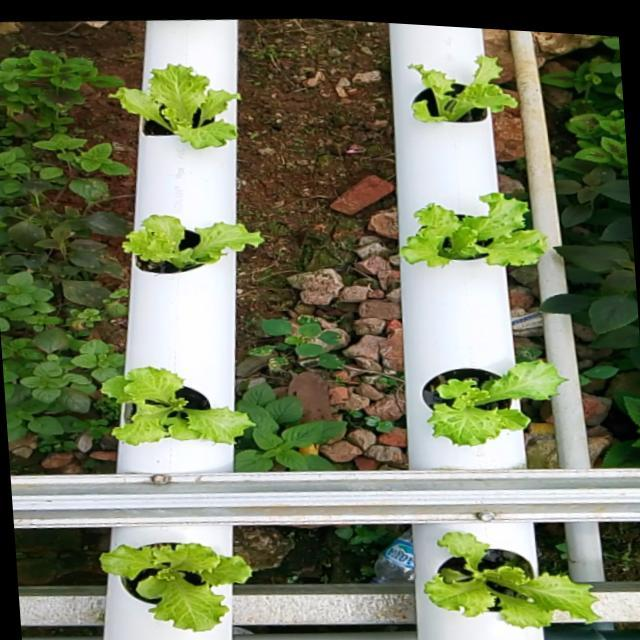Baby: (430, 524, 607, 620), (104, 523, 256, 628), (421, 358, 567, 445), (104, 362, 261, 442), (107, 62, 238, 147), (398, 190, 548, 264), (120, 213, 262, 272), (407, 53, 516, 120)
